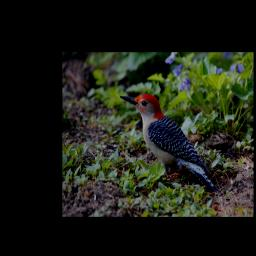Woodpecker: (120, 93, 219, 193)
